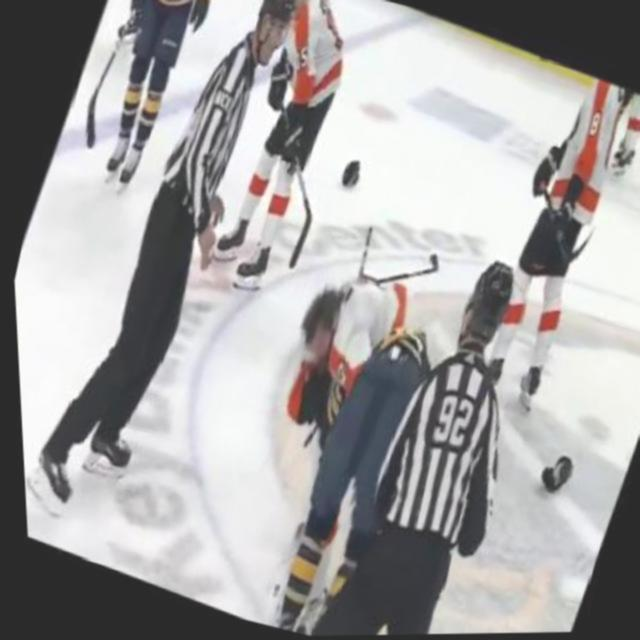fight: (181, 232, 493, 638)
